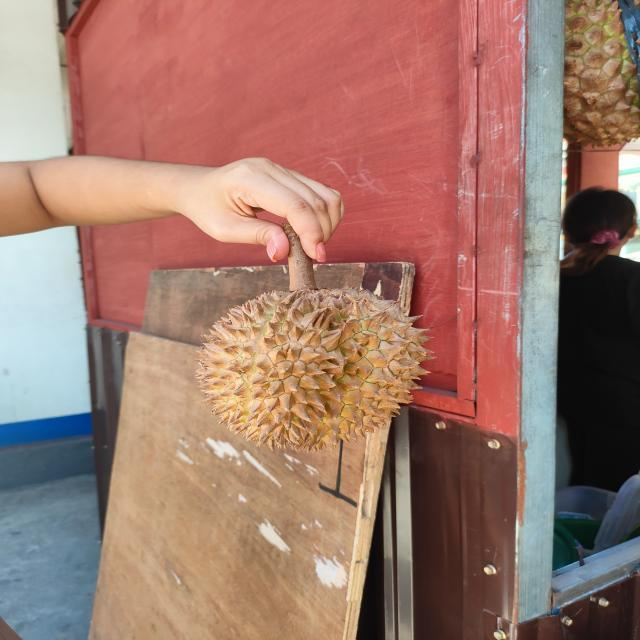mature: (192, 283, 438, 455)
